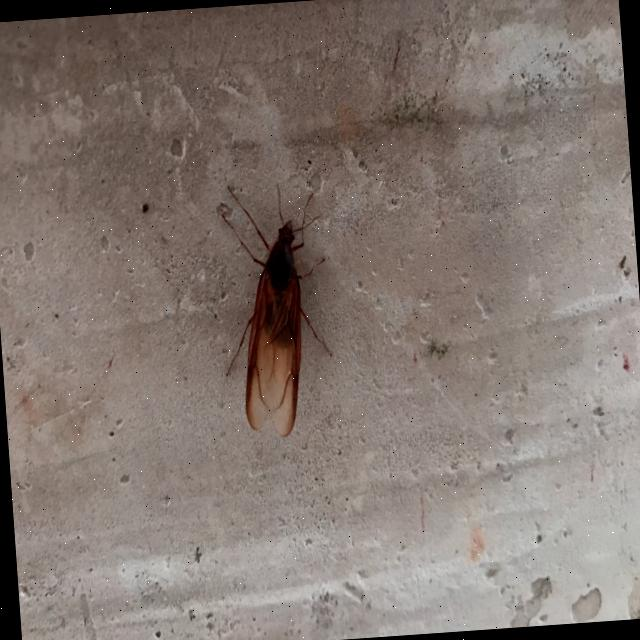Alive-Male-Alate: (211, 178, 338, 440)
